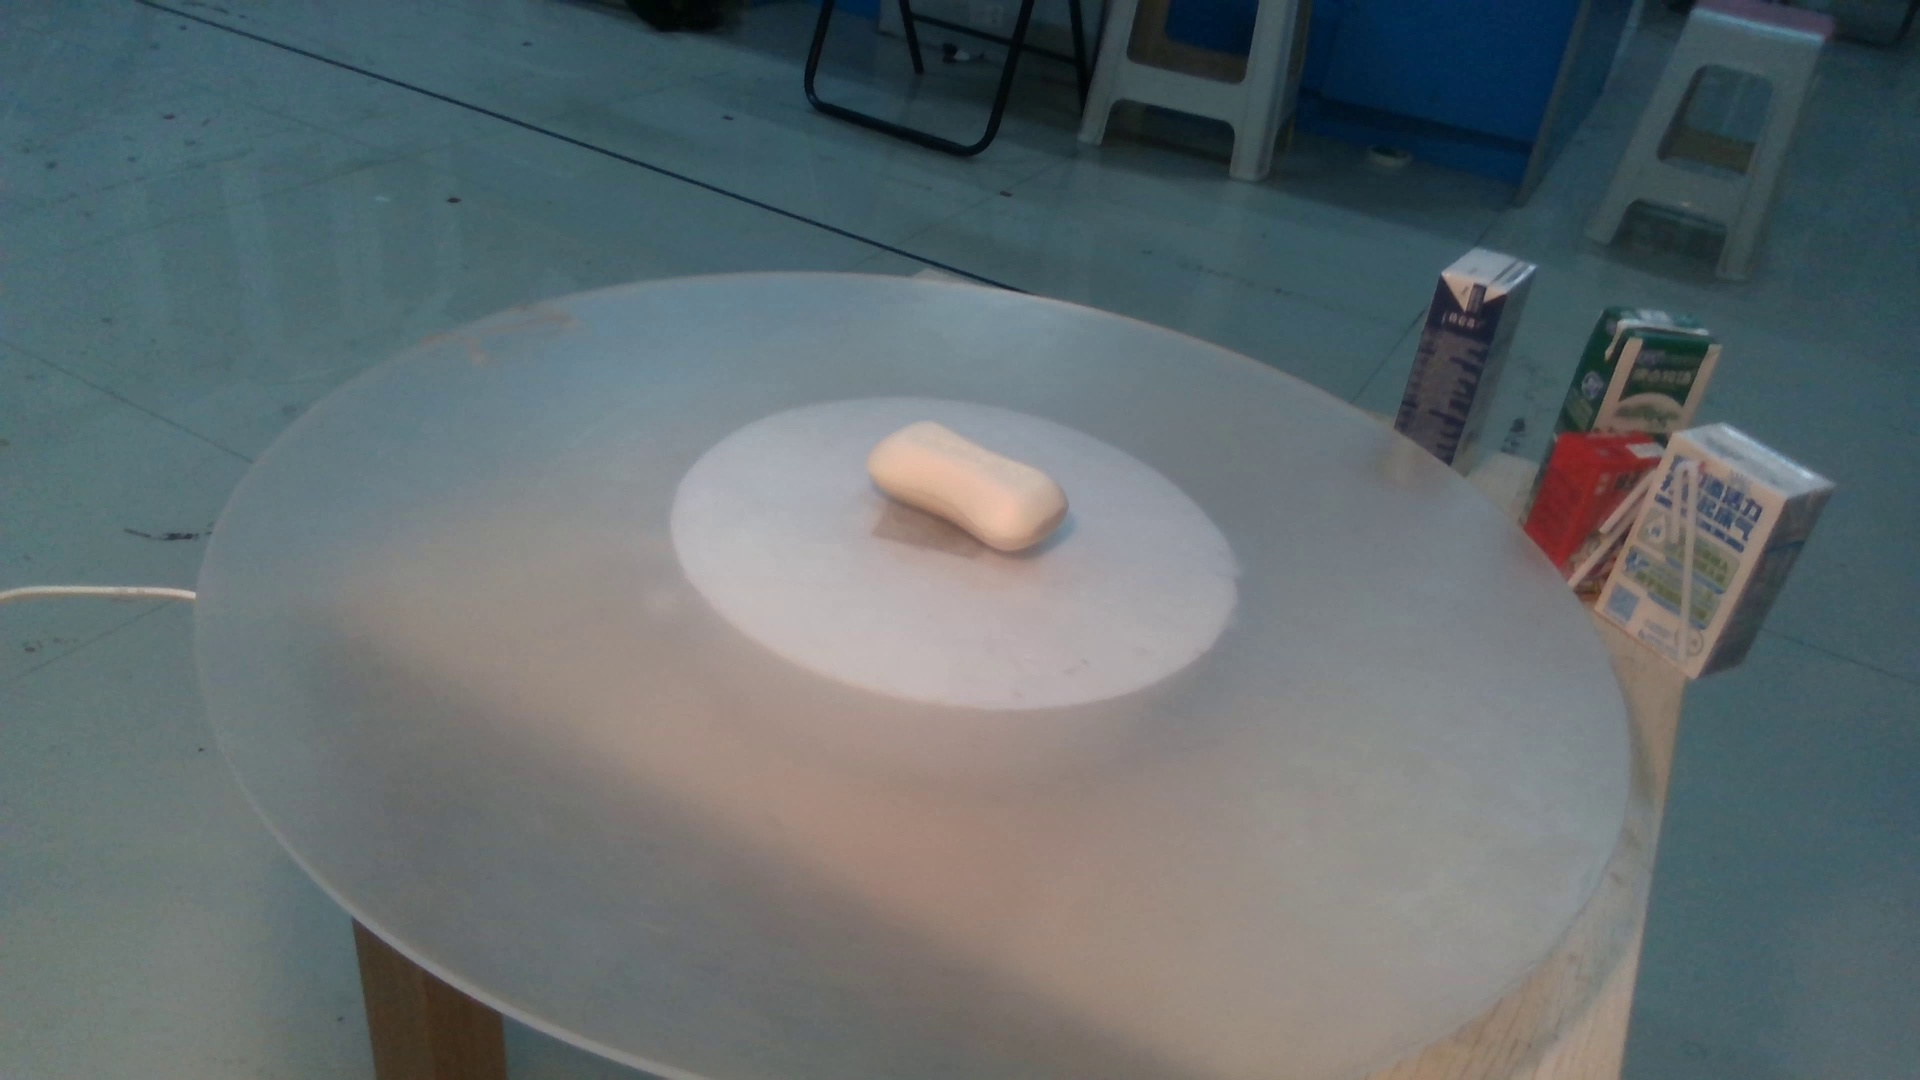CA003_1: (873, 400, 1106, 579)
